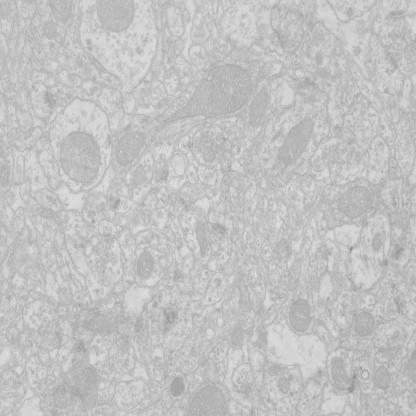mitochondria: (166, 64, 254, 124), (59, 130, 102, 184), (280, 116, 314, 166), (114, 129, 152, 166), (95, 0, 136, 34), (185, 384, 226, 416), (337, 185, 372, 220), (246, 87, 270, 129), (288, 297, 312, 334), (193, 220, 210, 258), (48, 0, 74, 24), (137, 250, 157, 280), (354, 310, 376, 337), (372, 364, 392, 390), (79, 367, 98, 391), (44, 19, 57, 41), (371, 232, 383, 253), (278, 376, 291, 395), (202, 146, 216, 163)
